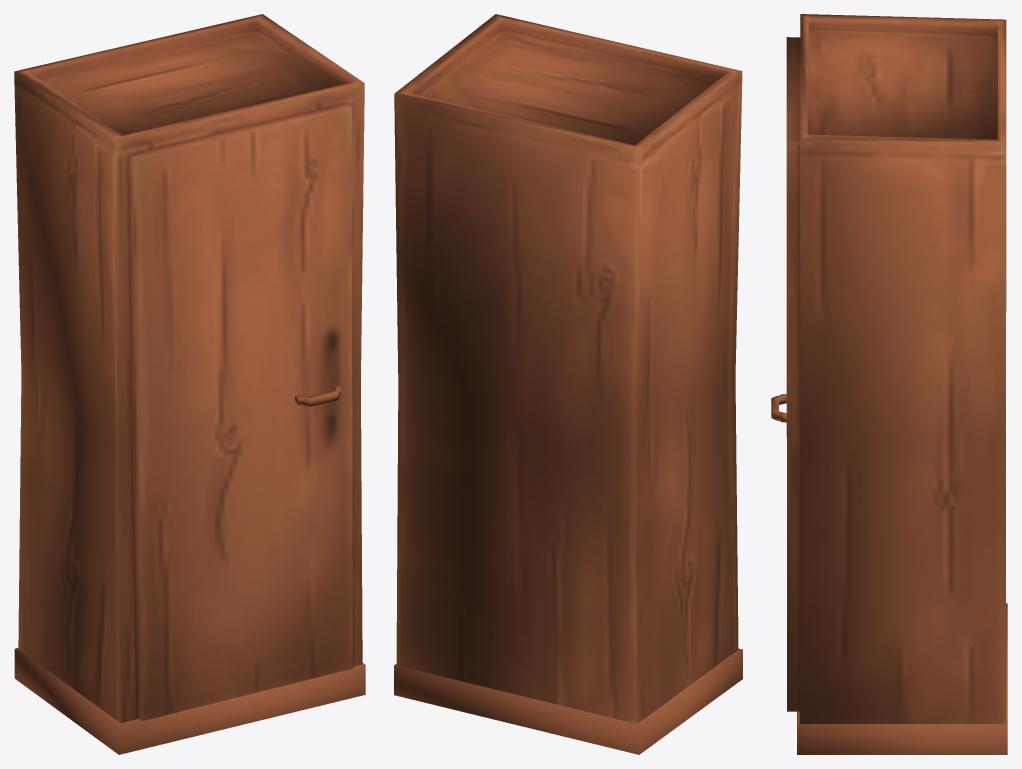
The model's file is Closet2.fbx.
3 views of the same model, side by side, from view 1: azimuth 30°, elevation 25°; view 2: azimuth 150°, elevation 25°; view 3: azimuth 270°, elevation 25° (orthographic).
Parts seen in each view (by area): view 1: CabinetModel; view 2: CabinetModel; view 3: CabinetModel.
Boxes of the visible parts, x1,y1,x2,y2 form: CabinetModel: (14, 14, 365, 754); CabinetModel: (394, 14, 742, 754); CabinetModel: (771, 14, 1007, 754).
Size of the model in its own units: 110 by 258 by 89.4.
